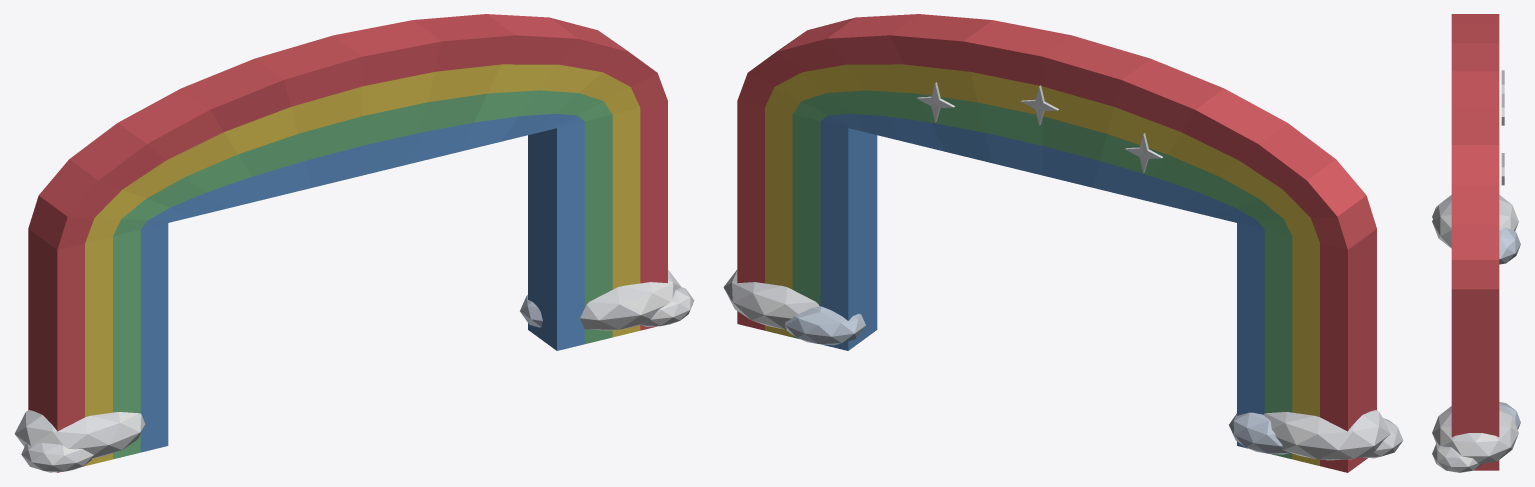
The model's file is Decor_CloudTemple_RainbowArch.fbx.
3 views of the same model, side by side, from view 1: azimuth 30°, elevation 25°; view 2: azimuth 150°, elevation 25°; view 3: azimuth 270°, elevation 25° (orthographic). The views are drawn at different scales.
Visible parts, largest first — view 1: RainbowArch_Body; view 2: RainbowArch_Body; view 3: RainbowArch_Body.
Boxes of the visible parts, bbox=[...] form: RainbowArch_Body: bbox=[14, 14, 694, 472]; RainbowArch_Body: bbox=[723, 14, 1403, 472]; RainbowArch_Body: bbox=[1432, 14, 1520, 472].
Size of the model in its own units: 28 by 13.8 by 4.
